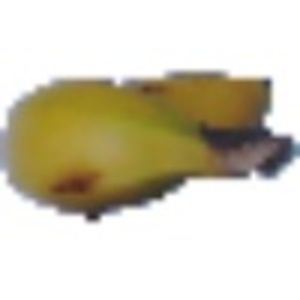banana: (3, 63, 293, 214)
